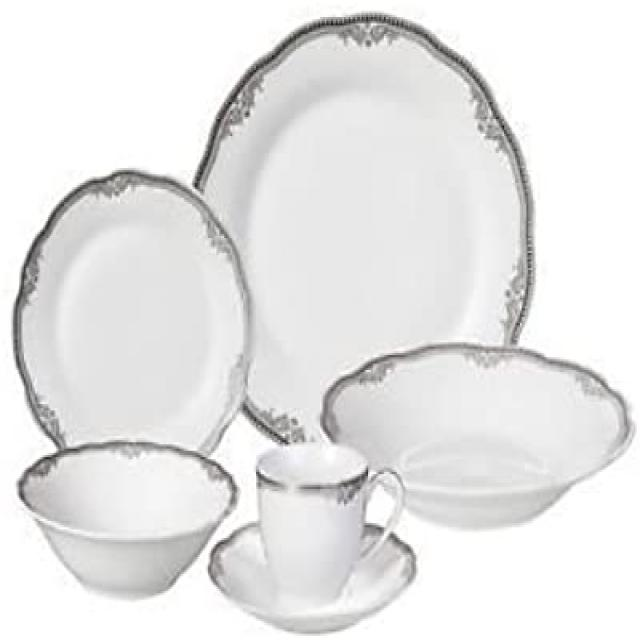non-organic waste: (198, 26, 520, 393), (25, 155, 242, 485), (323, 308, 640, 500)
